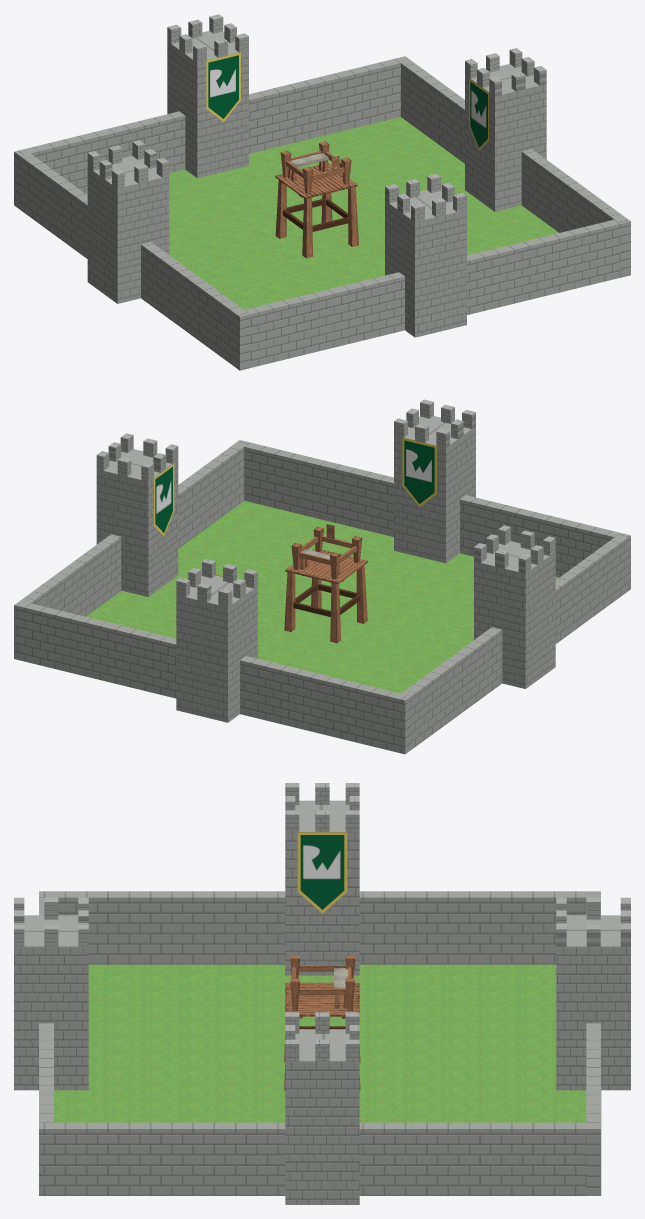
File: Level.fbx
3 renders of one model, top to bottom at view 1: azimuth 30°, elevation 25°; view 2: azimuth 150°, elevation 25°; view 3: azimuth 270°, elevation 25°, orthographic. The views are drawn at different scales.
Visible parts, largest first — view 1: Walls, Ground, TowerS, TowerN, TowerW, TowerE, PlatformBottom, Planks, Corners, Rails; view 2: Walls, Ground, TowerN, TowerS, TowerW, TowerE, PlatformBottom, Planks, Corners, Rails; view 3: Walls, Ground, TowerW, TowerE, TowerS, TowerN, Planks, Corners, Rails.
Part boxes in pixels (<box>): Walls: <box>14,56,630,370</box>; Ground: <box>86,117,558,309</box>; TowerS: <box>167,14,248,178</box>; TowerN: <box>385,174,466,337</box>; TowerW: <box>465,48,546,211</box>; TowerE: <box>87,140,169,303</box>; PlatformBottom: <box>275,180,358,258</box>; Planks: <box>275,163,357,198</box>; Corners: <box>280,141,351,194</box>; Rails: <box>286,151,344,180</box>; Walls: <box>14,440,630,754</box>; Ground: <box>14,500,558,753</box>; TowerN: <box>394,399,475,563</box>; TowerS: <box>176,559,257,722</box>; TowerW: <box>96,433,178,596</box>; TowerE: <box>474,525,555,688</box>; PlatformBottom: <box>284,565,367,643</box>; Planks: <box>285,548,367,584</box>; Corners: <box>291,526,362,579</box>; Rails: <box>299,535,356,564</box>; Walls: <box>39,891,600,1195</box>; Ground: <box>54,964,601,1195</box>; TowerW: <box>285,1012,359,1204</box>; TowerE: <box>285,783,359,975</box>; TowerS: <box>556,897,630,1090</box>; TowerN: <box>14,897,88,1090</box>; Planks: <box>285,982,359,1018</box>; Corners: <box>290,955,354,1011</box>; Rails: <box>292,965,351,995</box>.
Bounding box in the file's own units: 24.69 × 7.11 × 24.69.
